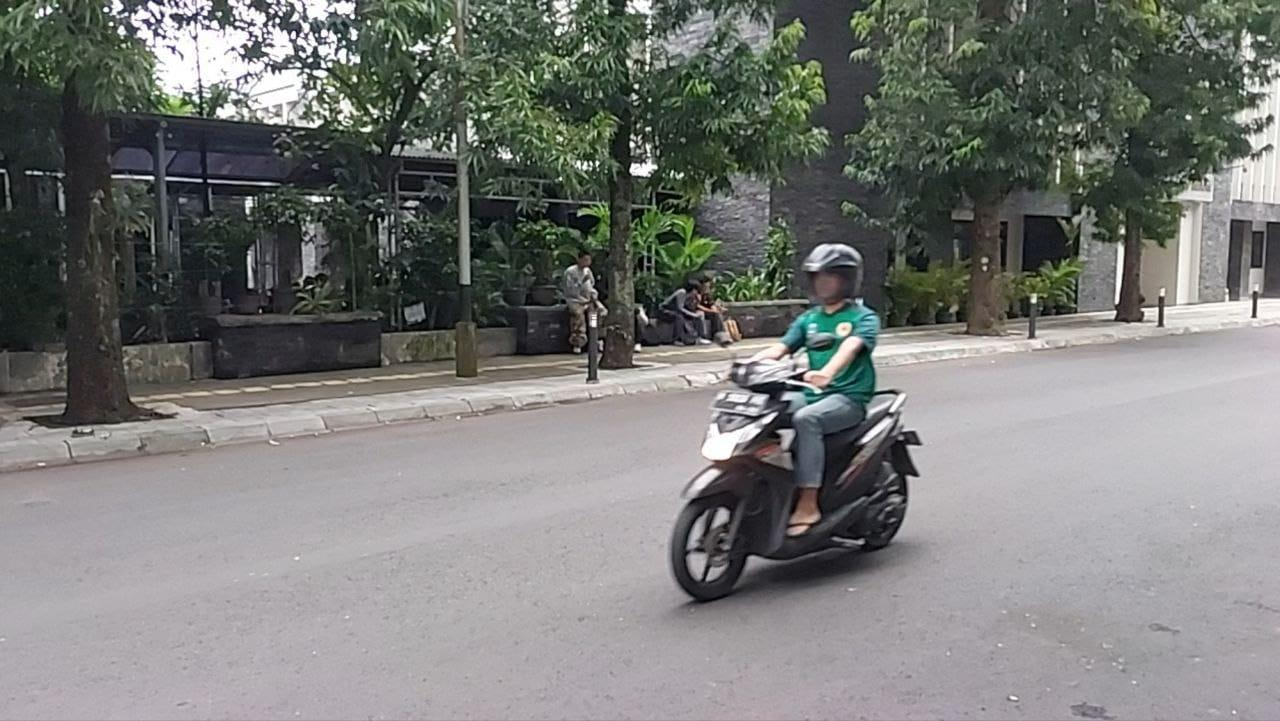helm: (798, 240, 867, 308)
riding: (667, 238, 927, 604)
